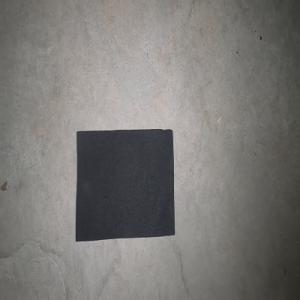PaintChip: (75, 128, 174, 241)
